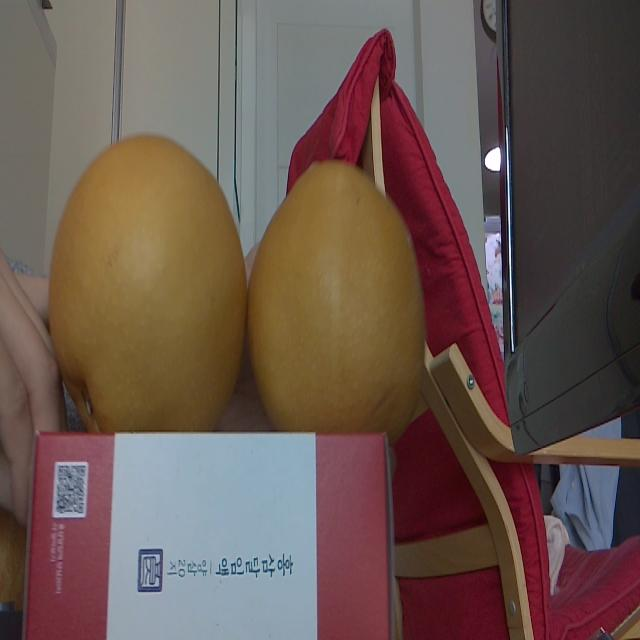pear: (49, 132, 245, 440), (246, 158, 426, 439)
